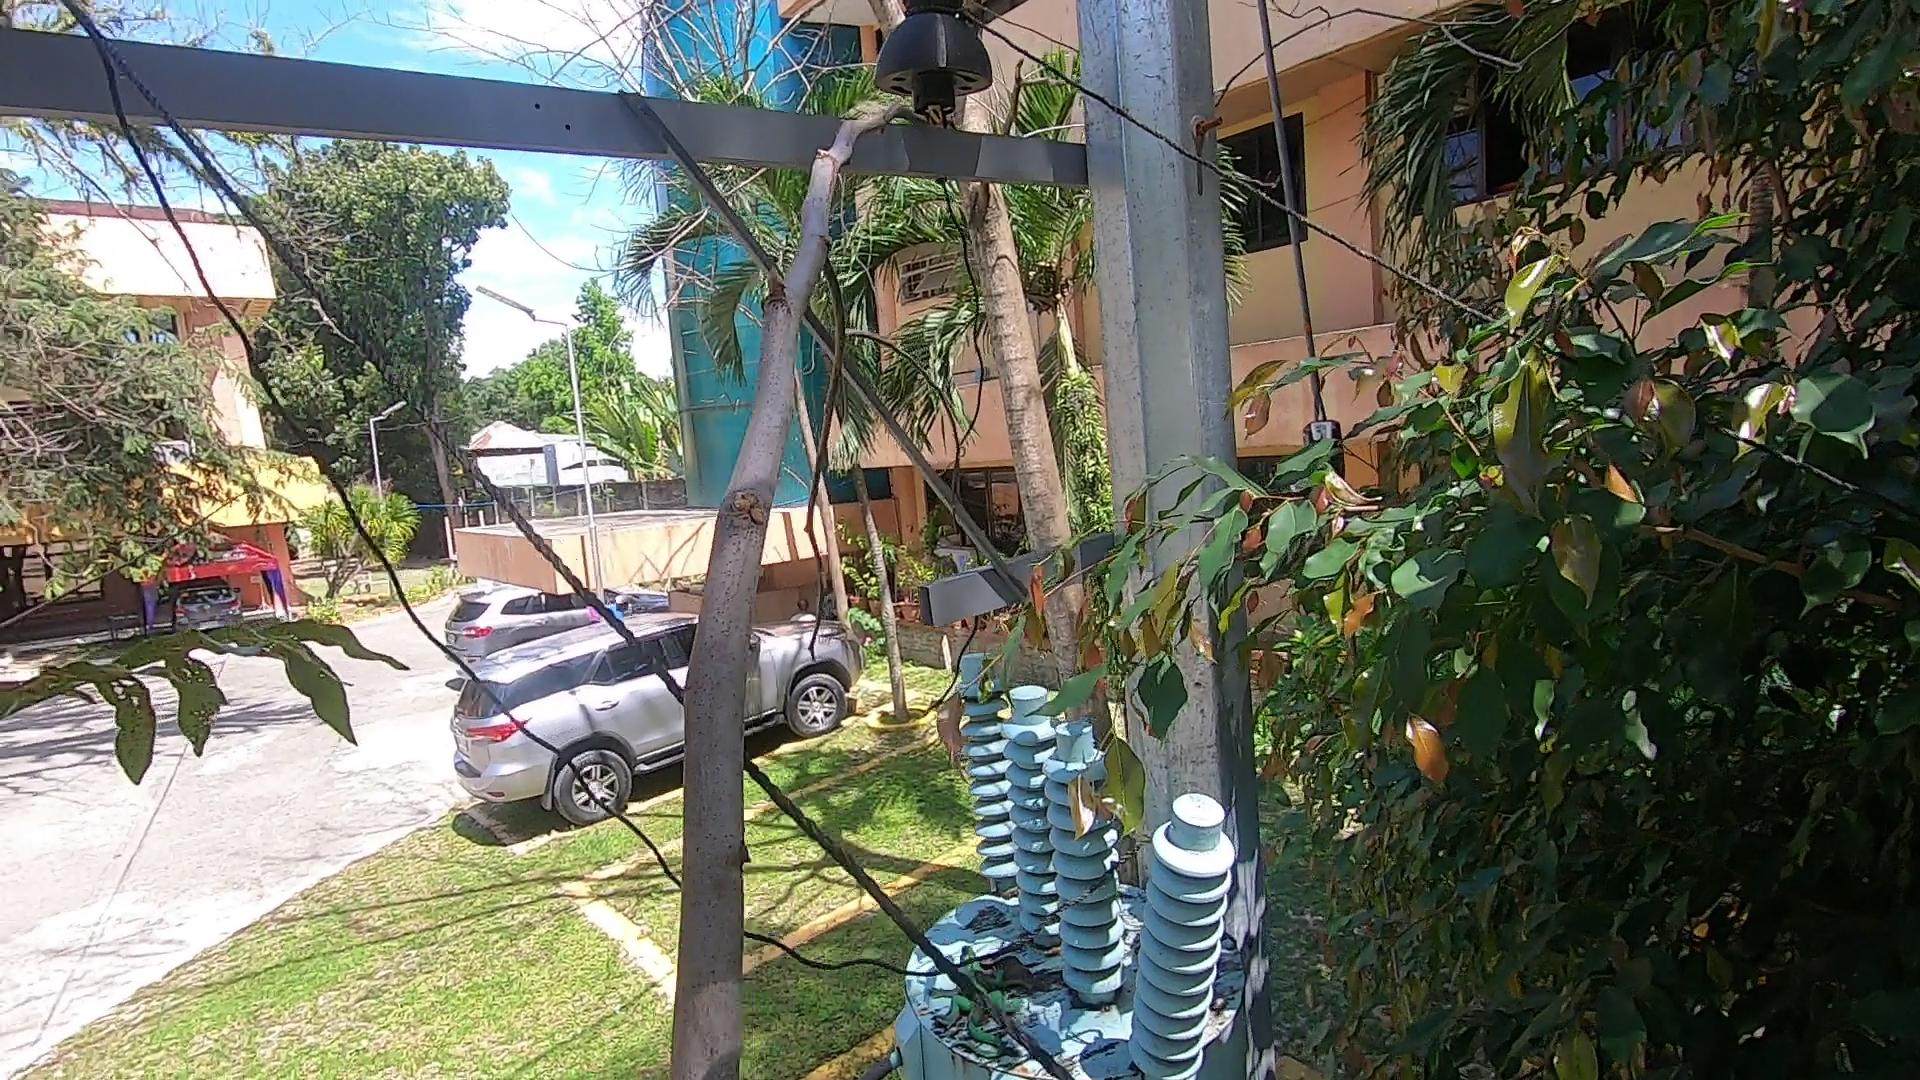branch with leaves: (939, 527, 1226, 836)
leaf: (967, 943, 1081, 997), (982, 880, 1015, 913)
tree branch: (655, 69, 924, 1080)
